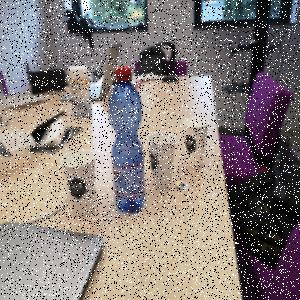Cup: (61, 149, 98, 219), (148, 132, 179, 192), (182, 117, 212, 171)
Plastic-bottle: (109, 66, 147, 216)
